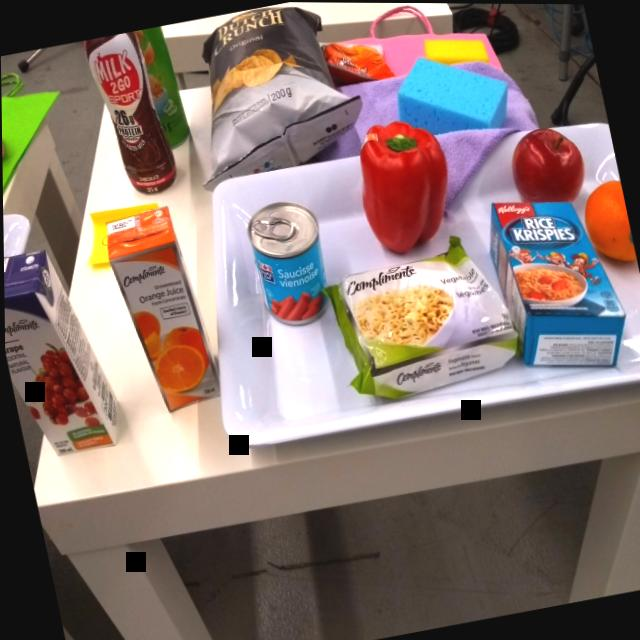apple: (502, 118, 594, 217)
cereal: (474, 180, 640, 397)
crackers: (317, 29, 400, 94)
noodles: (312, 222, 526, 416)
orange: (576, 177, 638, 273)
orange_juice: (82, 187, 225, 421)
paprika: (342, 107, 467, 263)
potato_chips: (167, 1, 379, 189)
sausages: (241, 191, 340, 334)
scrubby: (420, 24, 492, 80)
sponge_opl: (386, 38, 519, 157)
